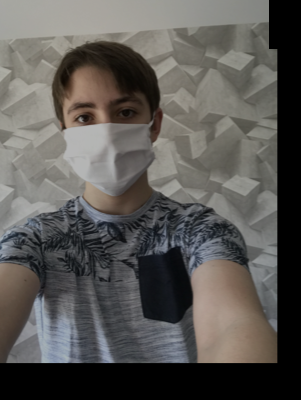with_mask: (62, 90, 155, 197)
